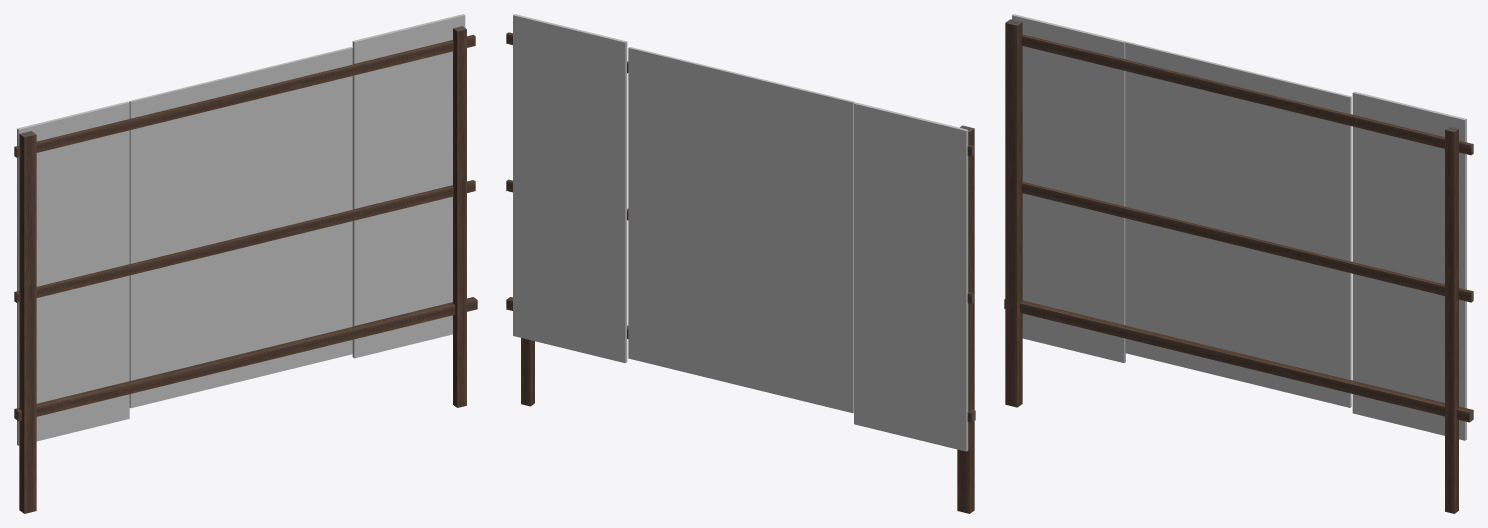
The model's file is fence08a_1t.fbx.
The picture shows the model from 3 angles, left to right: view 1: azimuth 30°, elevation 25°; view 2: azimuth 150°, elevation 25°; view 3: azimuth 330°, elevation 25°; orthographic projection.
Visible parts, largest first — view 1: fence08a_1t; view 2: fence08a_1t; view 3: fence08a_1t.
Part boxes in pixels (x1,y1,x2,y2): fence08a_1t: [14, 14, 477, 513]; fence08a_1t: [506, 14, 975, 513]; fence08a_1t: [1004, 14, 1473, 513].
Bounding box in the file's own units: 227 × 182 × 6.97.
